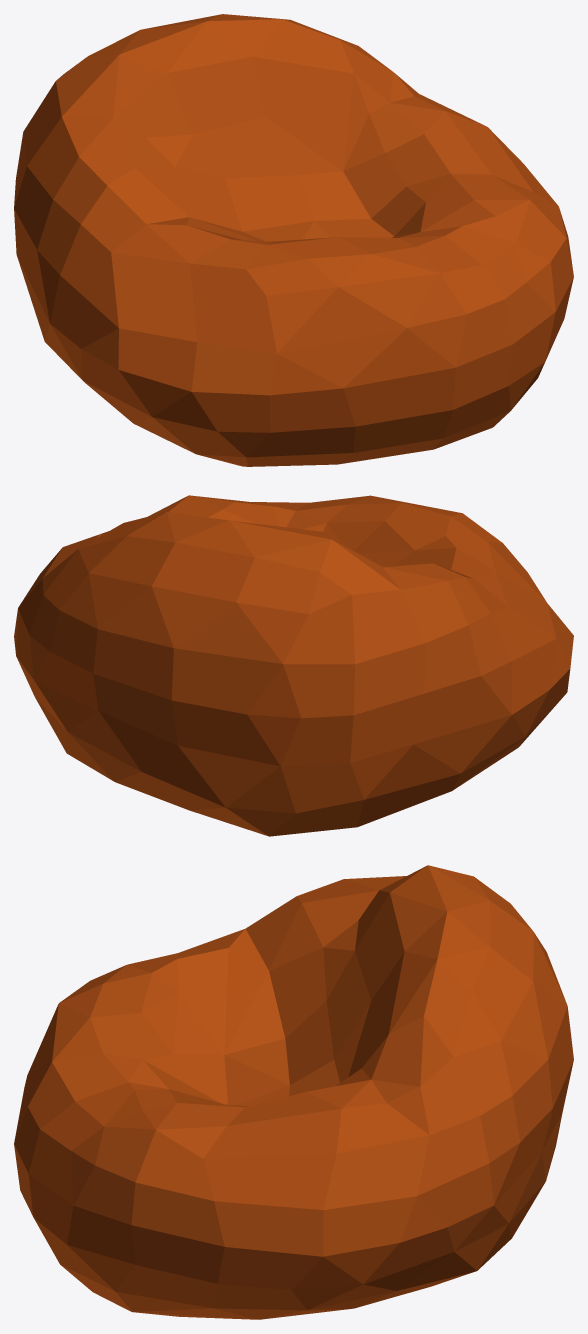
The model's file is BeanBag.obj.
3 renders of one model, top to bottom at view 1: azimuth 30°, elevation 25°; view 2: azimuth 150°, elevation 25°; view 3: azimuth 270°, elevation 25°, orthographic. The views are drawn at different scales.
Visible parts, largest first — view 1: Cube_Cube.007; view 2: Cube_Cube.007; view 3: Cube_Cube.007.
Boxes of the visible parts, x1,y1,x2,y2 form: Cube_Cube.007: [14, 14, 573, 466]; Cube_Cube.007: [14, 495, 573, 836]; Cube_Cube.007: [14, 865, 573, 1319].
Bounding box in the file's own units: 1.1 × 0.7107 × 1.03.
